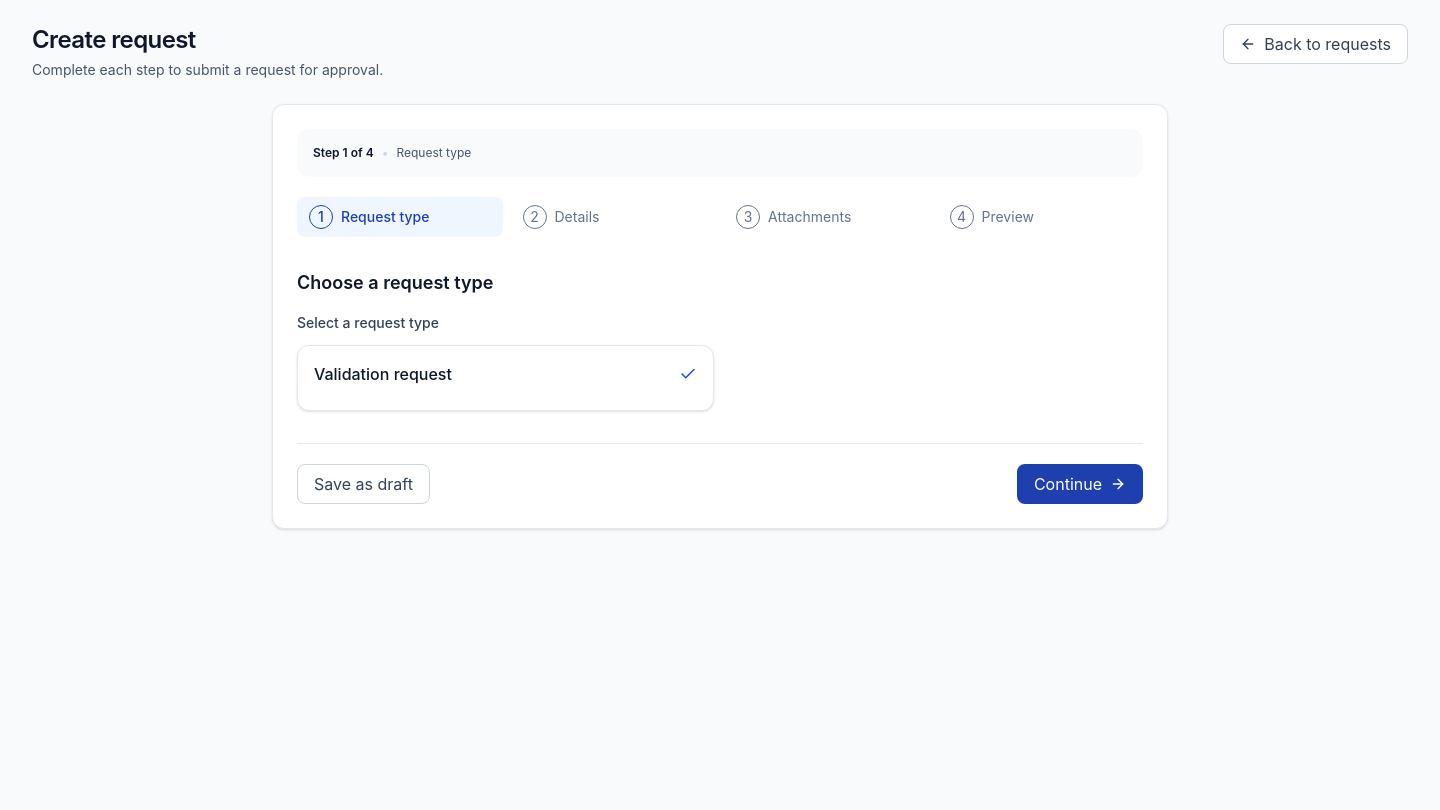
NewRequestPage validation › blocks moving forward when a required checkbox is unchecked
Click the button "Continue".
click(1080, 484)  # box 1017,464 -> 1143,504
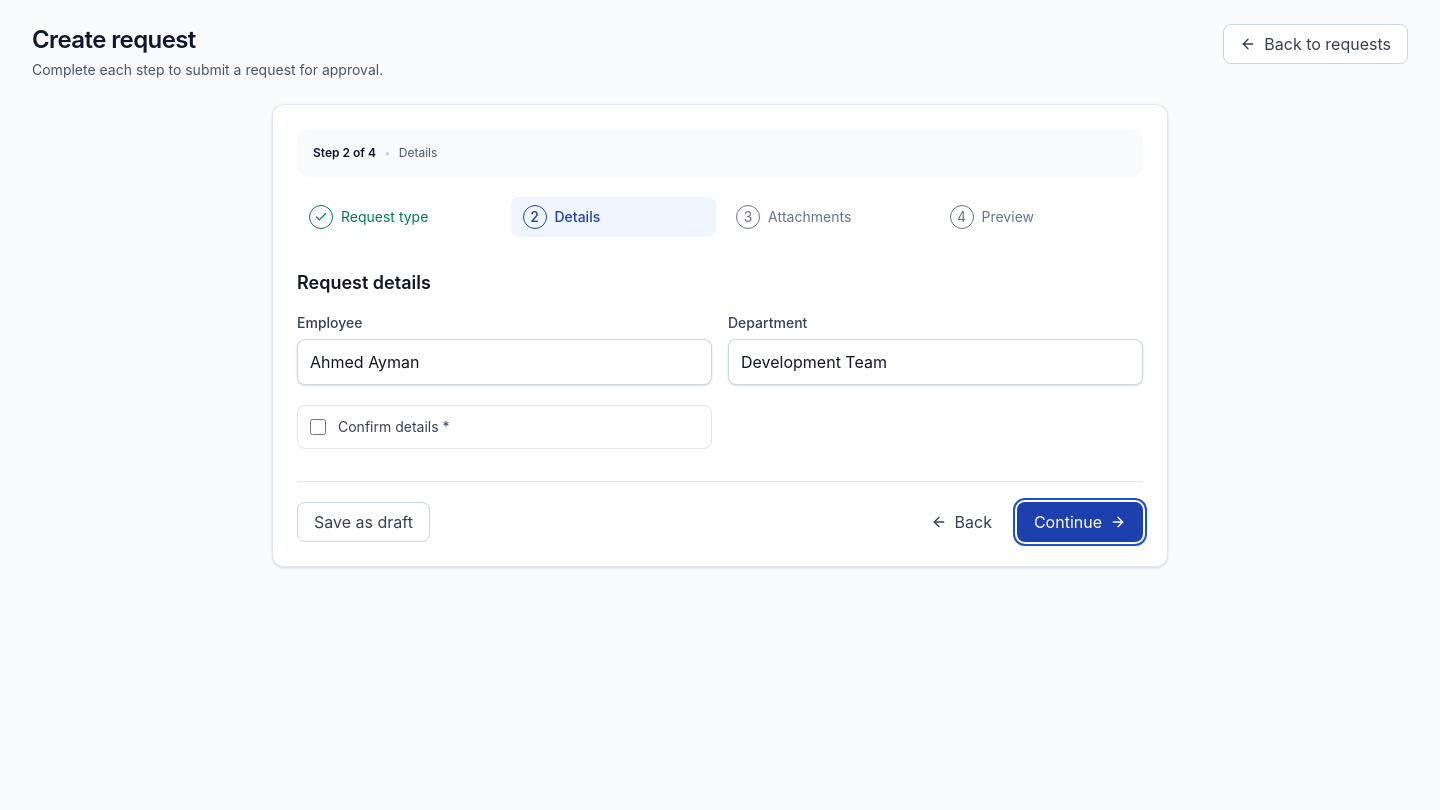
Check: the heading "Request details" is shown, box 297,272 -> 431,293
Click the button "Continue".
click(1080, 522)  # box 1017,502 -> 1143,542
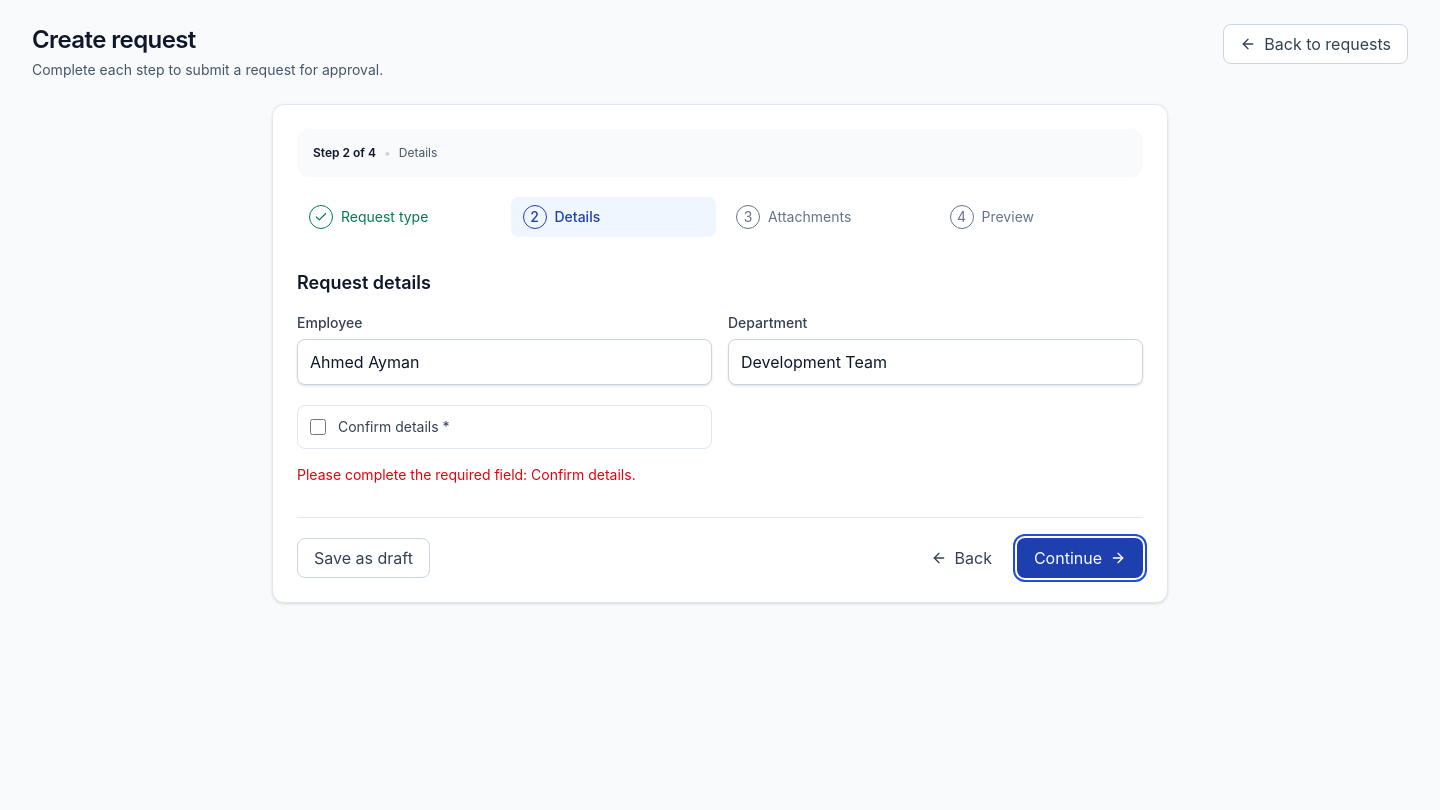
Check: the heading "Request details" is shown, box 297,272 -> 431,293
Check: the message reads "Please complete the required field: Confirm details.", box 297,466 -> 636,483
